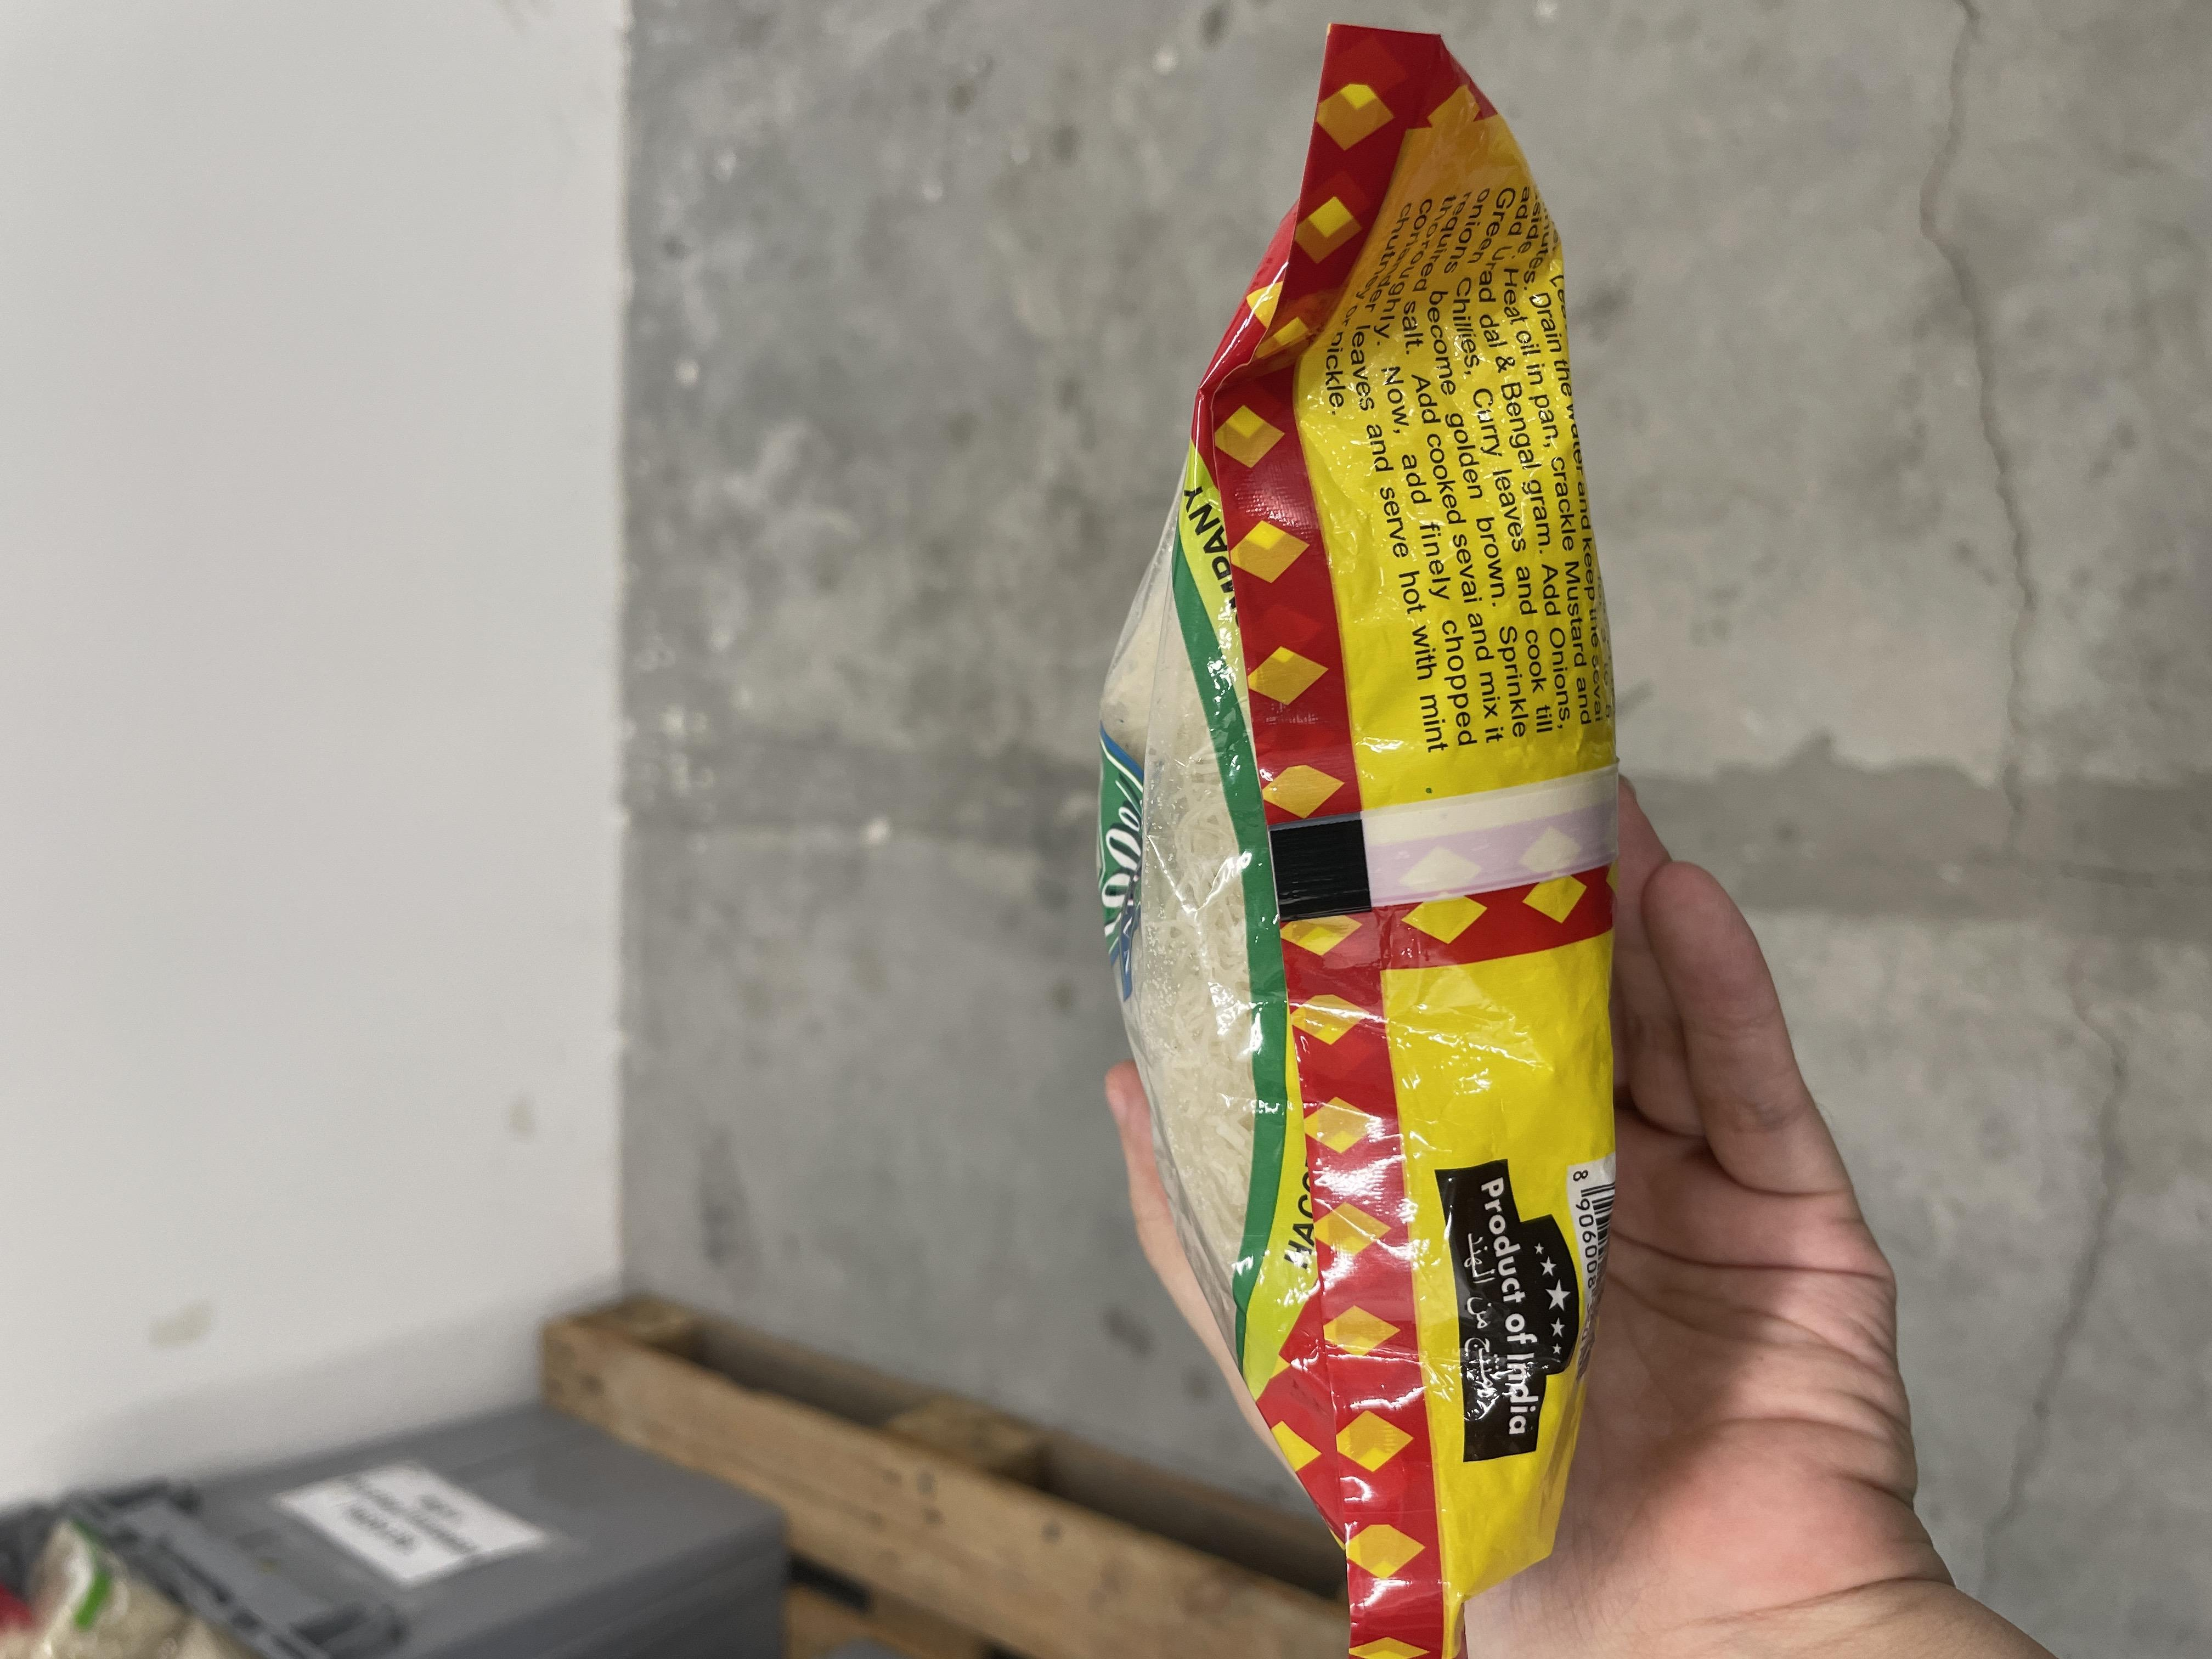object_name: (192, 1180, 1301, 1558)
